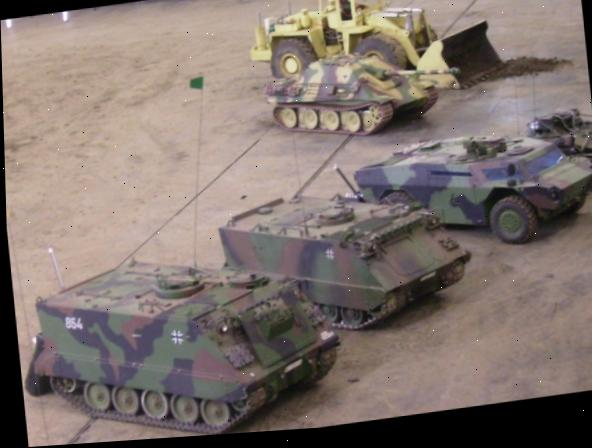armored_car: (9, 219, 351, 448), (213, 171, 477, 351), (350, 118, 592, 266)
tank: (254, 34, 470, 155)
